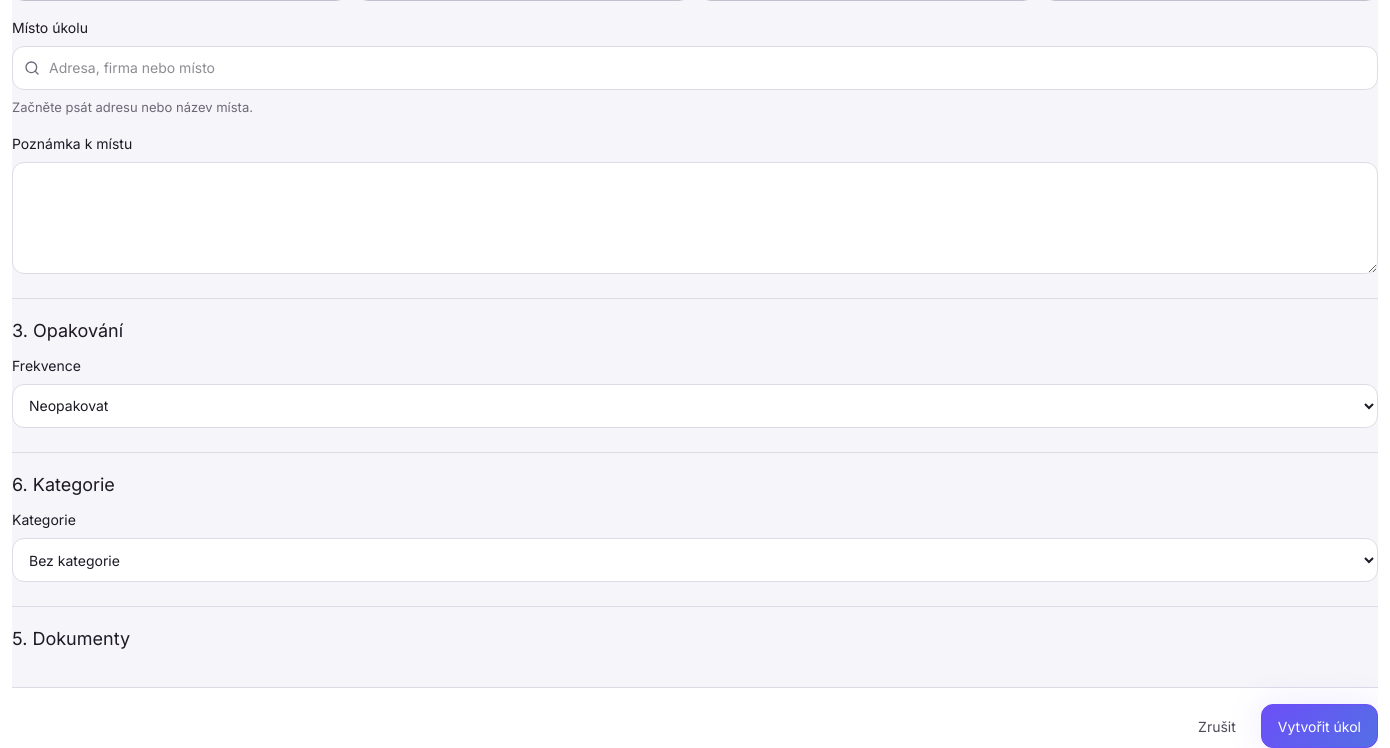
Scenario: agenda frontend › changes recurrence controls according to frequency
(page scrolled)
Check: the field labelled "Den v měsíci" is not shown
Select "Měsíčně" in the dropdown labelled "Frekvence" at coordinates (695, 406), box [12,384,1378,428]
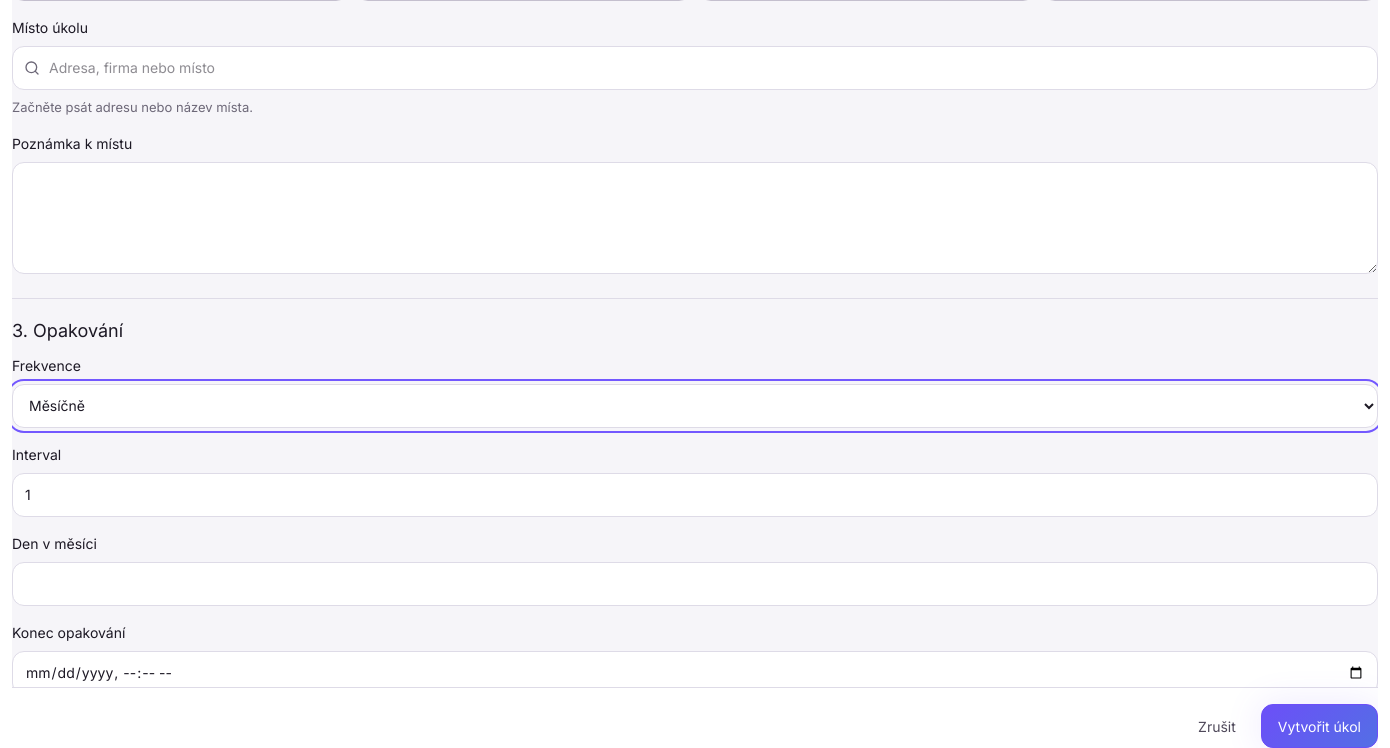
Check: the number field labelled "Den v měsíci" is shown, box [12,562,1378,606]
